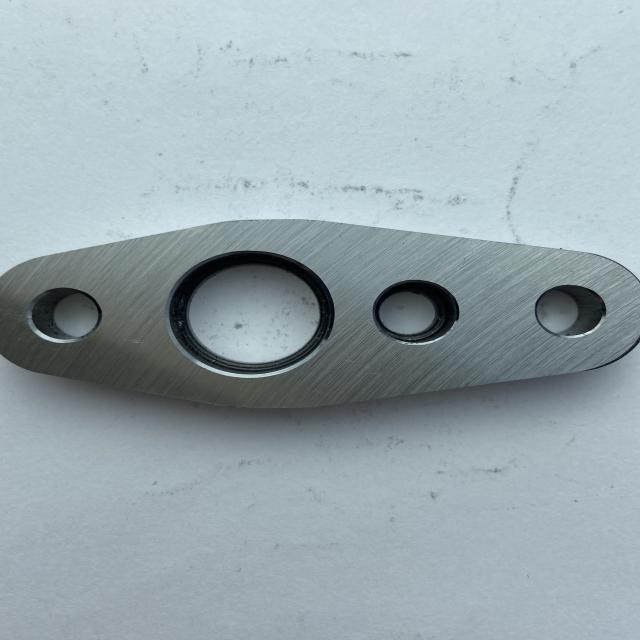chap: (125, 339, 146, 345), (343, 358, 359, 364), (368, 371, 382, 376), (580, 333, 588, 338)
